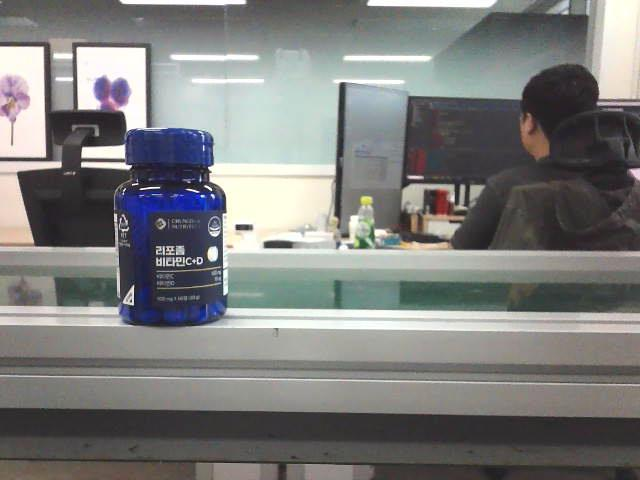labeled: (109, 120, 233, 329)
